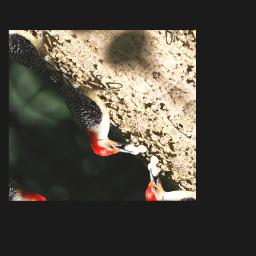Woodpecker: (35, 50, 166, 170)
